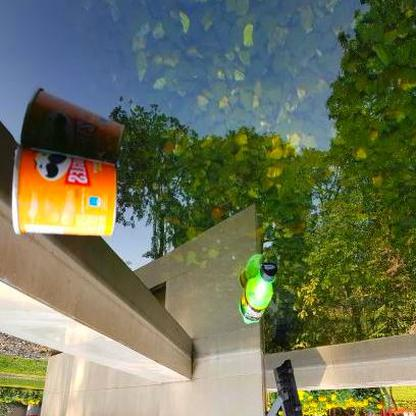plastic bottle: (240, 260, 277, 325)
